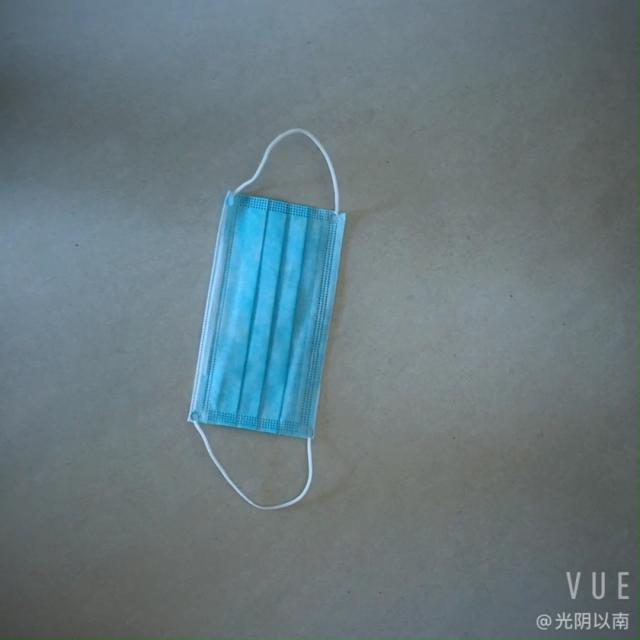non-organic waste: (169, 184, 354, 455)
